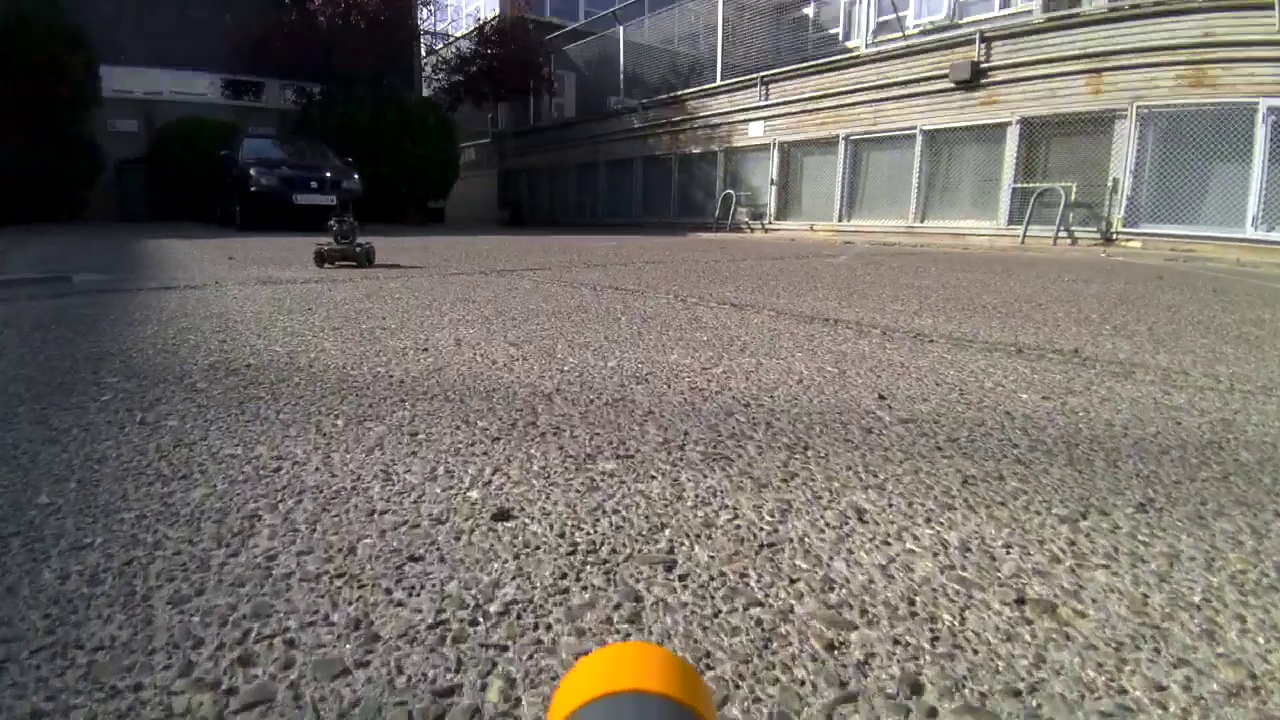robot: (312, 204, 387, 273)
